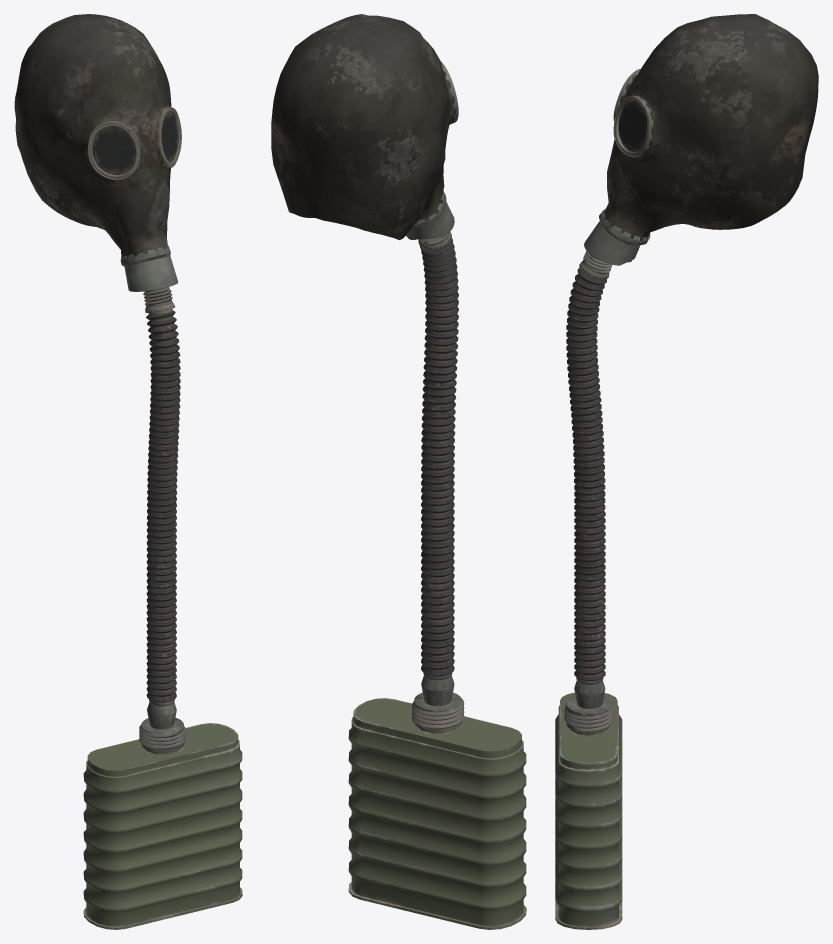
The model's file is ind_gas_mask.glb.
3 views of the same model, side by side, from view 1: azimuth 30°, elevation 25°; view 2: azimuth 150°, elevation 25°; view 3: azimuth 270°, elevation 25° (orthographic). The views are drawn at different scales.
Visible parts, largest first — view 1: old_gas_mask; view 2: old_gas_mask; view 3: old_gas_mask.
Part boxes in pixels (<box>): old_gas_mask: <box>14,14,242,929</box>; old_gas_mask: <box>271,14,526,929</box>; old_gas_mask: <box>555,14,818,929</box>.
Bounding box in the file's own units: 0.2105 × 1.13 × 0.3087.
1 material, 1 textured.
